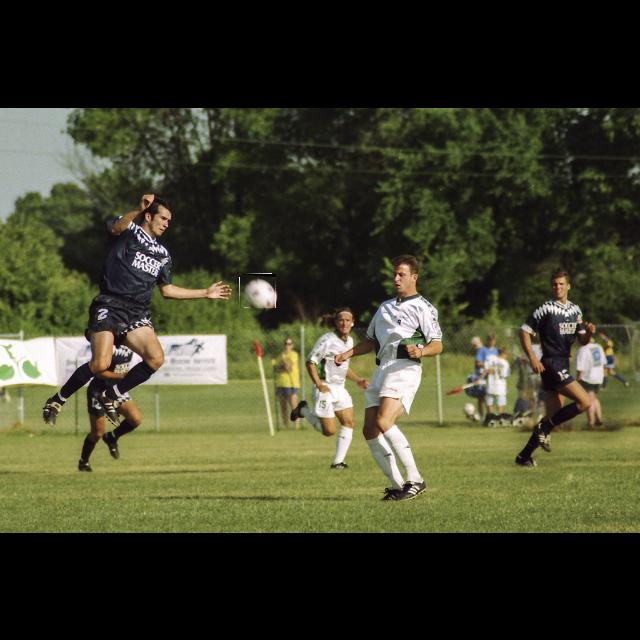Football: (240, 274, 276, 308)
